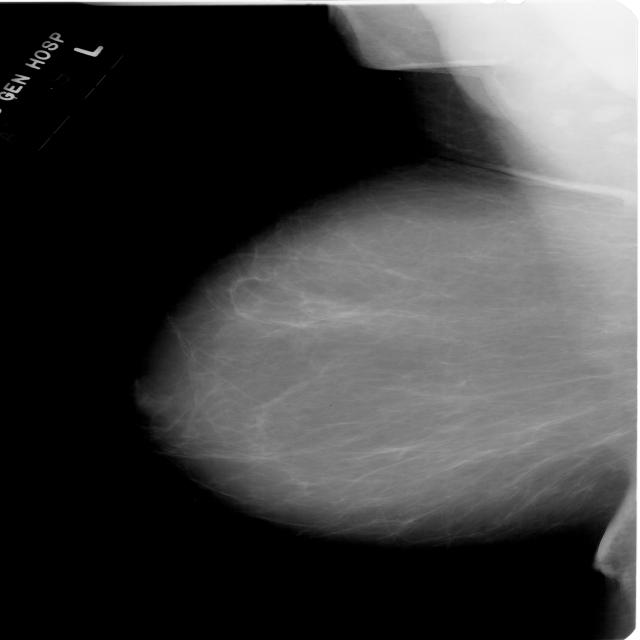normal: (126, 114, 640, 546)
